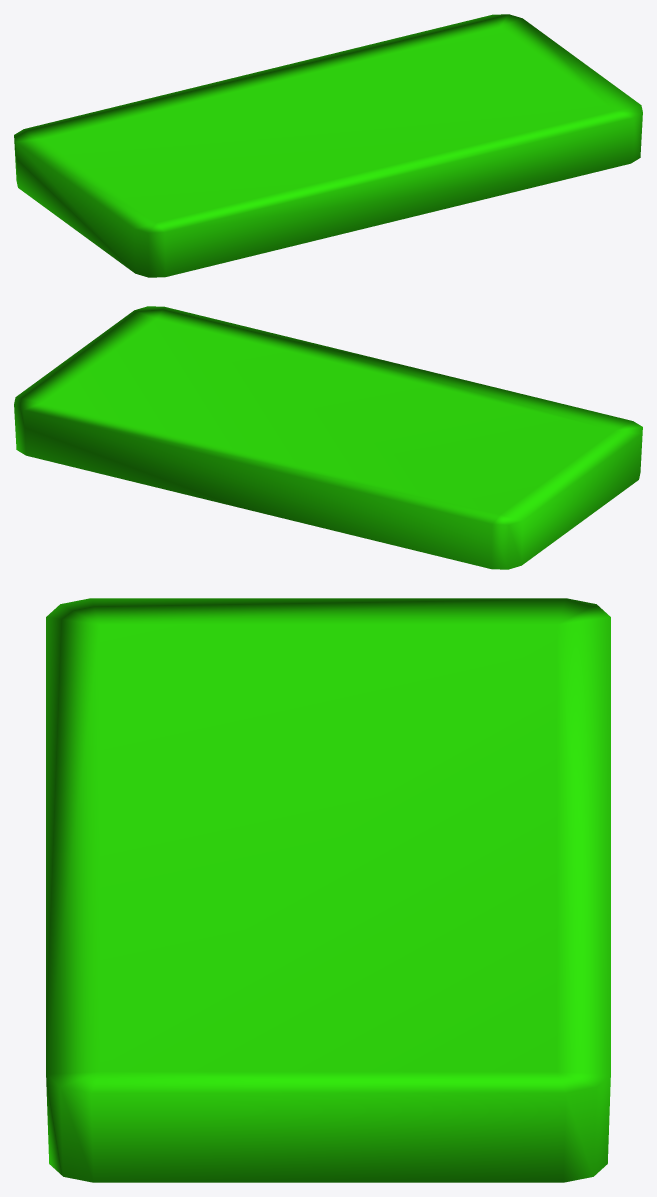
File: Matress_02_Lod1.fbx
3 views of the same model, one above another, from view 1: azimuth 30°, elevation 25°; view 2: azimuth 150°, elevation 25°; view 3: azimuth 270°, elevation 25° (orthographic). The views are drawn at different scales.
Visible parts, largest first — view 1: Matress_02_Lod1; view 2: Matress_02_Lod1; view 3: Matress_02_Lod1.
Boxes of the visible parts, <box> form: Matress_02_Lod1: <box>14,14,642,277</box>; Matress_02_Lod1: <box>14,306,642,569</box>; Matress_02_Lod1: <box>46,598,610,1182</box>.
Size of the model in its own units: 205 by 17.61 by 98.7.
